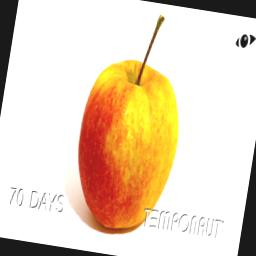Apple Unripe: (61, 2, 202, 242)
